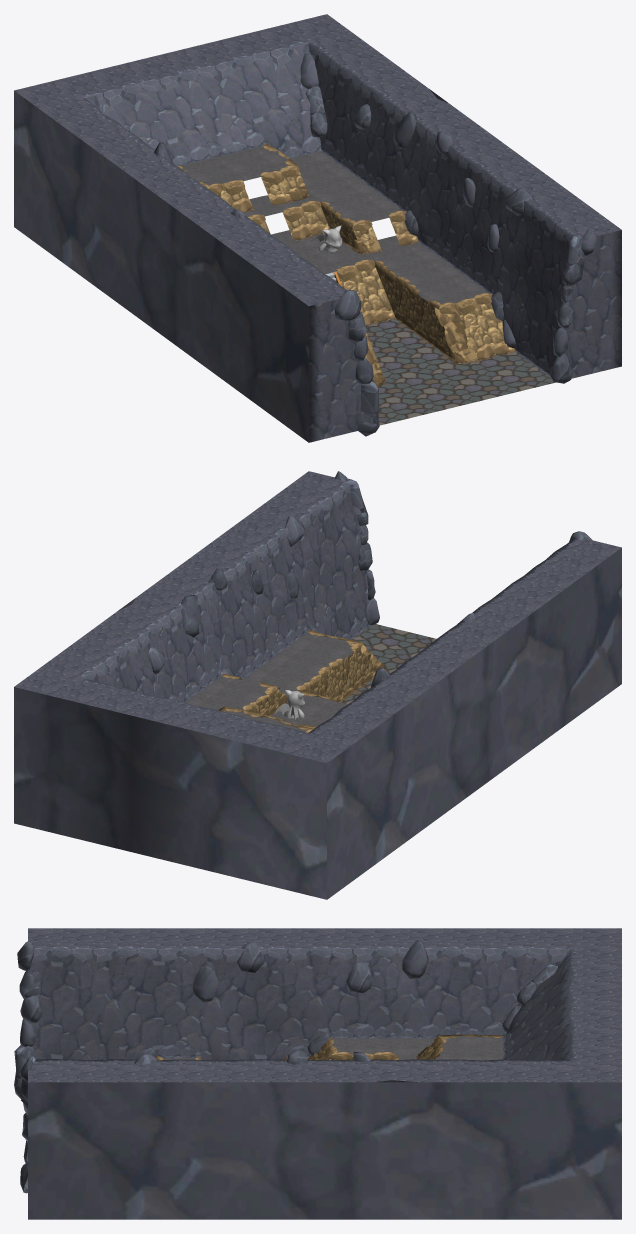
3 renders of one model, top to bottom at view 1: azimuth 30°, elevation 25°; view 2: azimuth 150°, elevation 25°; view 3: azimuth 270°, elevation 25°, orthographic.
Visible parts, largest first — view 1: SM_RO_026_Wall_01_1F_01_7, SM_RO_026_Wall_01_1F_01_4, SM_RO_026_Wall_01_1F_01_6, SM_RO_026_Wall_01_1F_01_5, SM_RO_026_Floor_01_1F_01_1, SM_RO_026_Floor_01_1F_01_0, SM_RO_026_Wall_01_1F_01_3, SM_RO_026_Wall_01_1F_01_1, SM_RO_026_Wall_01_1F_01_0, SM_RO_026_Wall_01_1F_01_2; view 2: SM_RO_026_Wall_01_1F_01_7, SM_RO_026_Wall_01_1F_01_6, SM_RO_026_Wall_01_1F_01_4, SM_RO_026_Wall_01_1F_01_5, SM_RO_026_Floor_01_1F_01_1, SM_RO_026_Floor_01_1F_01_0, SM_RO_026_Wall_01_1F_01_3, SM_RO_026_Wall_01_1F_01_1, SM_RO_026_Wall_01_1F_01_0; view 3: SM_RO_026_Wall_01_1F_01_7, SM_RO_026_Wall_01_1F_01_4, SM_RO_026_Wall_01_1F_01_6, SM_RO_026_Wall_01_1F_01_5, SM_RO_026_Floor_01_1F_01_1, SM_RO_026_Wall_01_1F_01_1.
Boxes of the visible parts, x1,y1,x2,y2 form: SM_RO_026_Wall_01_1F_01_7: (14, 89, 621, 442); SM_RO_026_Wall_01_1F_01_4: (99, 54, 568, 367); SM_RO_026_Wall_01_1F_01_6: (14, 14, 621, 306); SM_RO_026_Wall_01_1F_01_5: (83, 42, 596, 436); SM_RO_026_Floor_01_1F_01_1: (180, 145, 488, 304); SM_RO_026_Floor_01_1F_01_0: (365, 317, 555, 425); SM_RO_026_Wall_01_1F_01_3: (217, 172, 504, 359); SM_RO_026_Wall_01_1F_01_1: (177, 143, 492, 315); SM_RO_026_Wall_01_1F_01_0: (227, 182, 515, 386); SM_RO_026_Wall_01_1F_01_2: (365, 304, 468, 382); SM_RO_026_Wall_01_1F_01_7: (14, 548, 621, 899); SM_RO_026_Wall_01_1F_01_6: (14, 471, 621, 763); SM_RO_026_Wall_01_1F_01_4: (95, 492, 368, 698); SM_RO_026_Wall_01_1F_01_5: (81, 471, 592, 734); SM_RO_026_Floor_01_1F_01_1: (186, 632, 353, 732); SM_RO_026_Floor_01_1F_01_0: (341, 624, 436, 703); SM_RO_026_Wall_01_1F_01_3: (253, 651, 376, 713); SM_RO_026_Wall_01_1F_01_1: (218, 630, 365, 732); SM_RO_026_Wall_01_1F_01_0: (260, 662, 387, 717); SM_RO_026_Wall_01_1F_01_7: (28, 1082, 621, 1219); SM_RO_026_Wall_01_1F_01_4: (28, 949, 570, 1082); SM_RO_026_Wall_01_1F_01_6: (28, 928, 621, 1082); SM_RO_026_Wall_01_1F_01_5: (14, 940, 577, 1193); SM_RO_026_Floor_01_1F_01_1: (163, 1036, 503, 1060); SM_RO_026_Wall_01_1F_01_1: (155, 1034, 503, 1060).
Bounding box in the file's own units: 16.8 × 8.34 × 28.05.
Materials: 12 (12 with a texture image).
